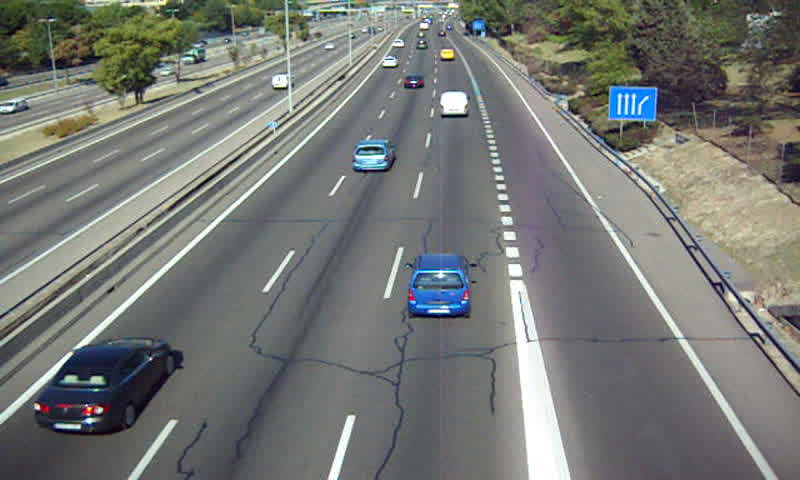car: (32, 338, 176, 437), (407, 254, 470, 316), (352, 138, 394, 171), (402, 74, 424, 89), (380, 56, 398, 71)
van: (439, 91, 469, 118)
